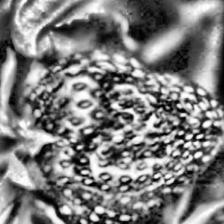Anthracnose Fruit Rot: (17, 64, 224, 224)
